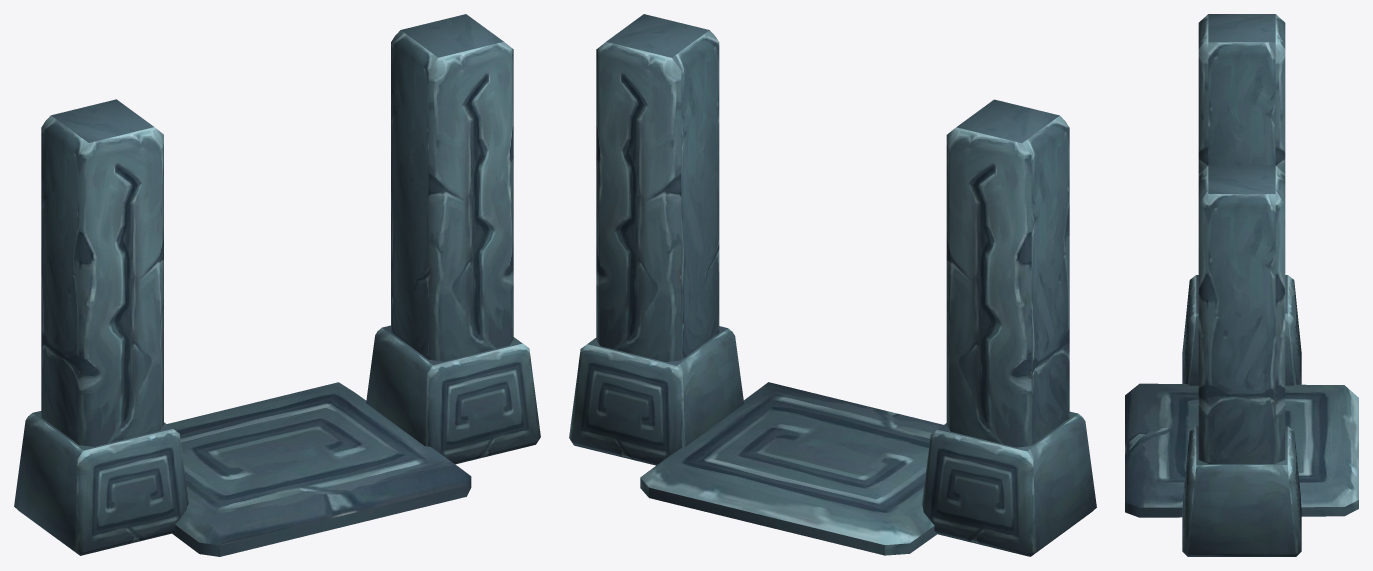
The model's file is EntranceDoor.glb.
The picture shows the model from 3 angles, left to right: view 1: azimuth 30°, elevation 25°; view 2: azimuth 150°, elevation 25°; view 3: azimuth 270°, elevation 25°; orthographic projection. The views are drawn at different scales.
Parts seen in each view (by area): view 1: EntranceDoor; view 2: EntranceDoor; view 3: EntranceDoor.
Boxes of the visible parts, <box> form: EntranceDoor: <box>14,14,540,556</box>; EntranceDoor: <box>569,14,1096,556</box>; EntranceDoor: <box>1125,14,1358,556</box>.
Size of what is drawn, in the model's own units: 5.78 by 4.74 by 2.83.
1 material, 1 textured.
